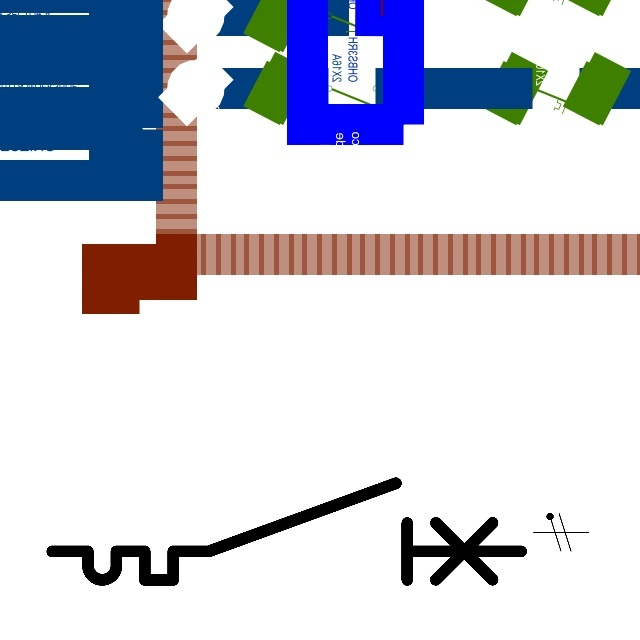interruptor_termomagnetico: (40, 471, 533, 592)
